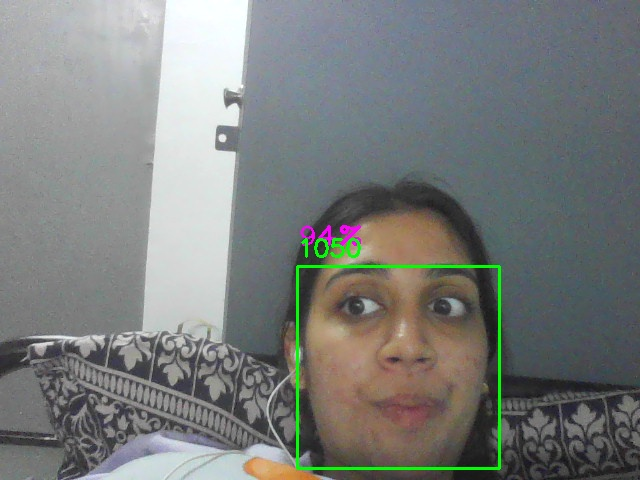real: (297, 266, 500, 469)
